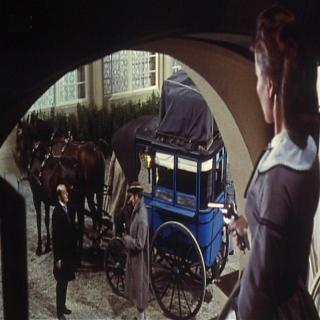gun: (205, 193, 248, 254)
